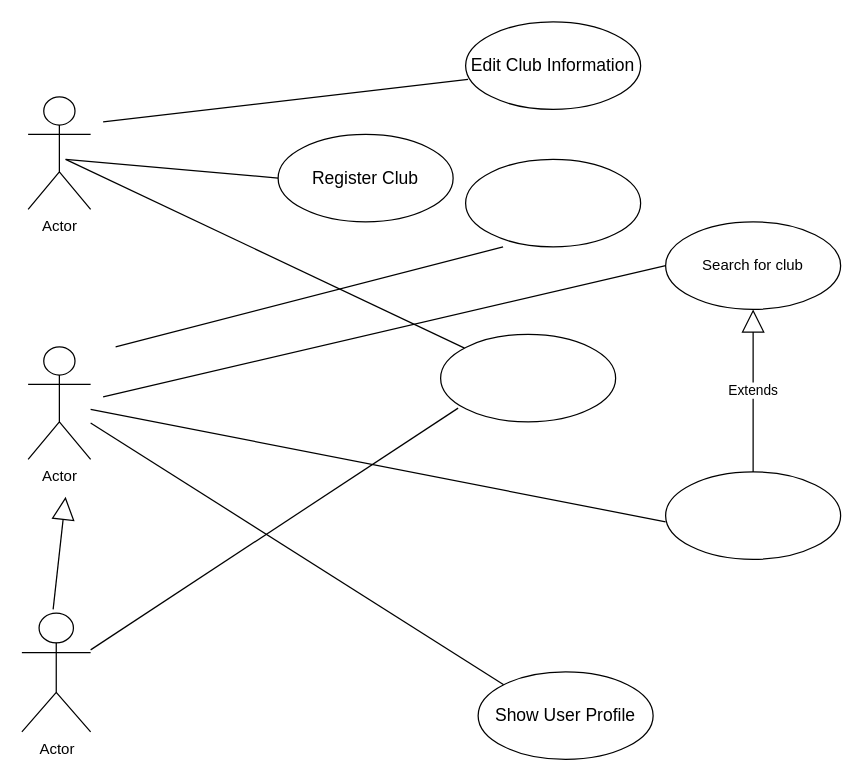
The diagram is 863 pixels wide and 781 high, and some of its shapes have lost their labels. The shapes that lost their labels are listed below. From the top down, each one's box as (x1, y1, x2, y2) in pixels, then its label:
(464, 158, 641, 247): Edit profile information
(439, 333, 616, 422): Notify Club Members
(664, 471, 841, 559): Request to jo i n club
